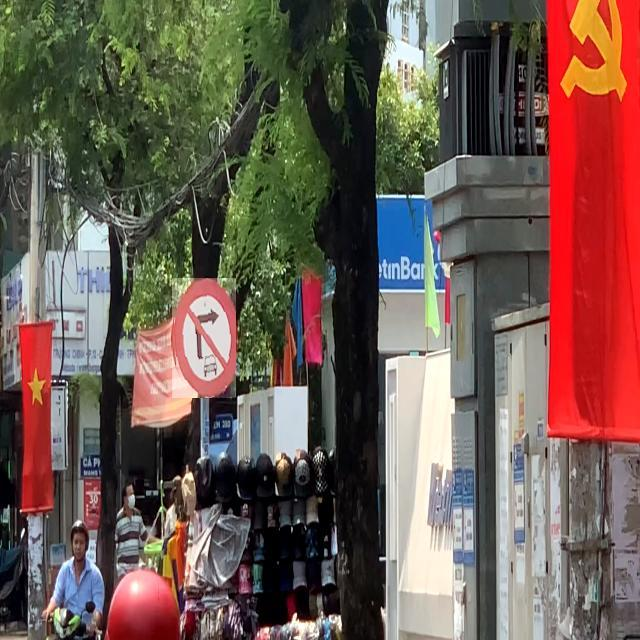P-103b: (172, 278, 236, 398)
